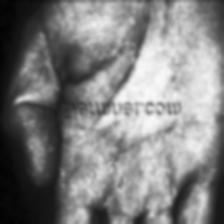Non-Cancerous Skin Condition: (130, 40, 186, 100), (30, 126, 57, 185)
